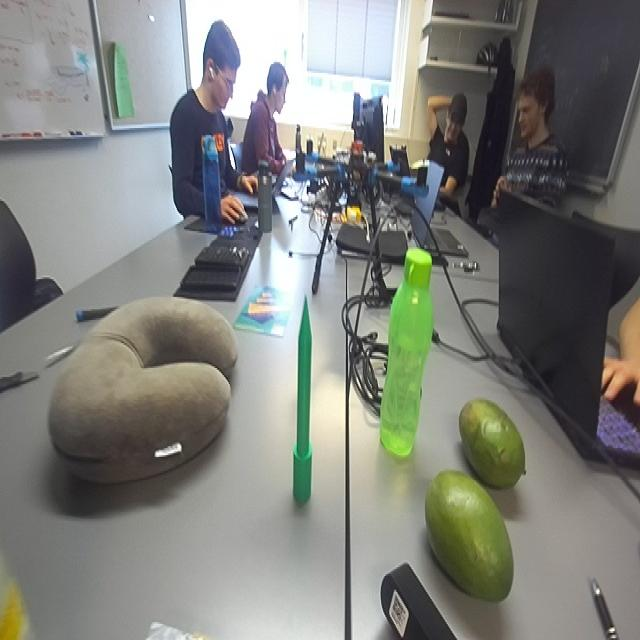probe: (293, 295, 311, 503)
